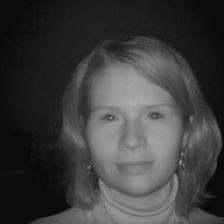happy: (62, 35, 202, 195)
